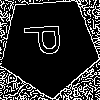P: (23, 21, 71, 58)
